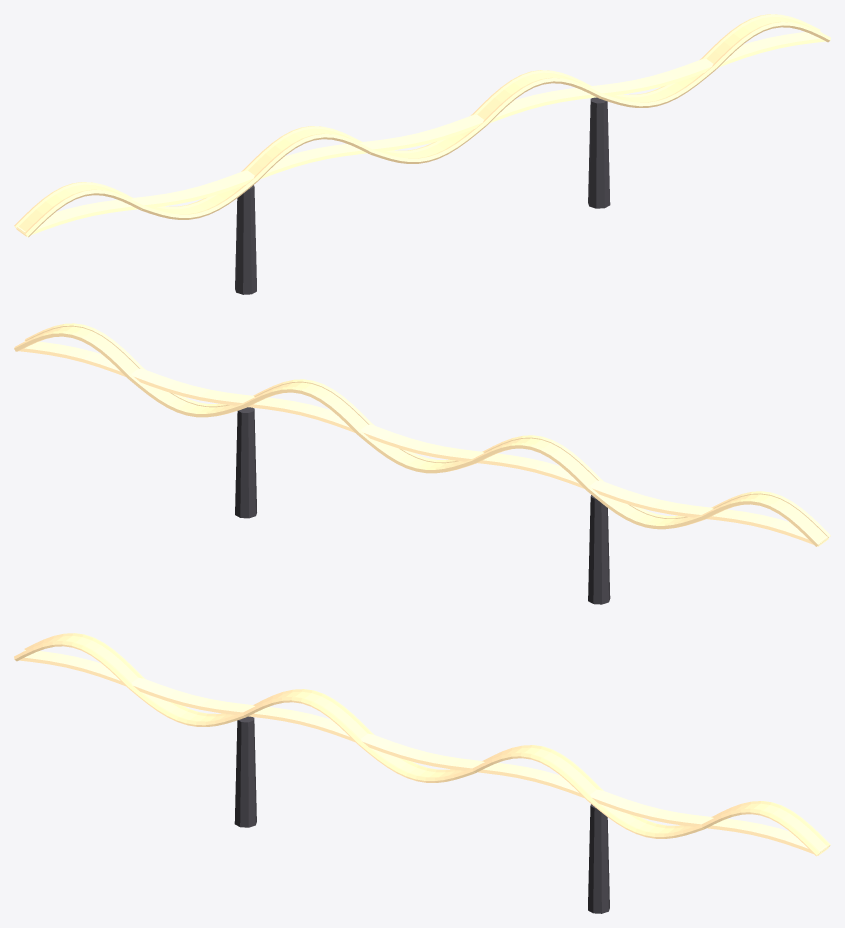
File: henderson-waves.glb
The picture shows the model from 3 angles, top to bottom: view 1: azimuth 30°, elevation 25°; view 2: azimuth 150°, elevation 25°; view 3: azimuth 330°, elevation 25°; orthographic projection.
Parts seen in each view (by area): view 1: deck, pier-1, pier--1, rib-4--1, shell-0, rib-0--1, rib-6--1, rib-2--1, shell-6, shell-4, shell-2, rib-3--1 (+5 smaller); view 2: deck, pier-1, pier--1, rib-0-1, rib-6-1, rib-2-1, rib-4-1, shell-0, shell-4, shell-2, shell-6, rib-5-1 (+5 smaller); view 3: deck, pier--1, pier-1, rib-2--1, shell-6, rib-6--1, rib-0--1, rib-4--1, shell-0, shell-2, shell-4, rib-3--1 (+5 smaller).
Part boxes in pixels (x1,y1,x2,y2): deck: (16,31,825,236); pier-1: (588,97,610,208); pier--1: (235,185,256,294); rib-4--1: (483,77,601,125); shell-0: (16,184,125,235); rib-0--1: (24,189,142,237); rib-6--1: (712,21,830,69); rib-2--1: (254,133,372,181); shell-6: (706,16,814,63); shell-4: (477,72,587,119); shell-2: (248,128,353,175); rib-3--1: (370,121,486,163); deck: (18,341,828,546); pier-1: (235,407,256,518); pier--1: (588,495,610,604); rib-0-1: (702,499,820,546); rib-6-1: (14,331,132,379); rib-2-1: (472,443,590,490); rib-4-1: (243,387,361,434); shell-0: (721,494,828,545); shell-4: (264,382,367,429); shell-2: (493,438,596,485); shell-6: (35,326,138,373); rib-5-1: (129,375,245,417); deck: (19,650,828,855); pier--1: (234,716,256,827); pier-1: (588,804,609,913); rib-2--1: (243,696,361,744); shell-6: (719,803,828,854); rib-6--1: (702,808,820,856); rib-0--1: (14,640,132,688); rib-4--1: (472,752,590,800); shell-0: (30,635,138,682); shell-2: (257,691,367,738); shell-4: (491,747,596,794); rib-3--1: (358,740,474,782).
Size of the model in its own units: 275 by 46.96 by 7.83.
